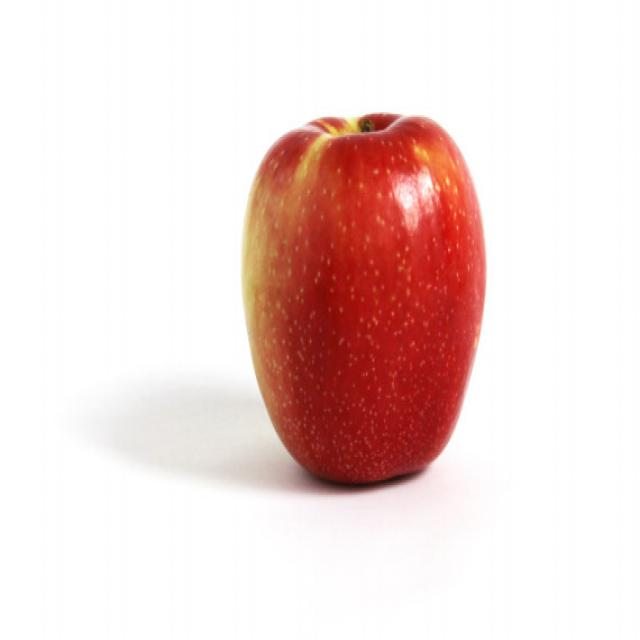Apple: (237, 108, 490, 485)
